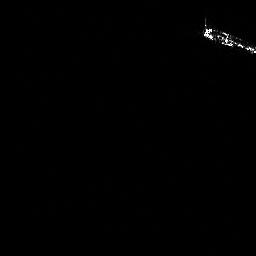ship: (200, 16, 256, 56)
